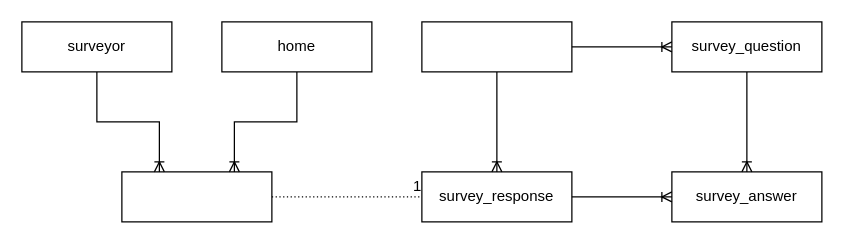
This 844x244 diagram has some shape labels left out. The box of each missing label's shape, as (x1, y1, x2, y2) in pixels:
survey: (421, 21, 572, 72)
survey_visit: (121, 171, 272, 222)
